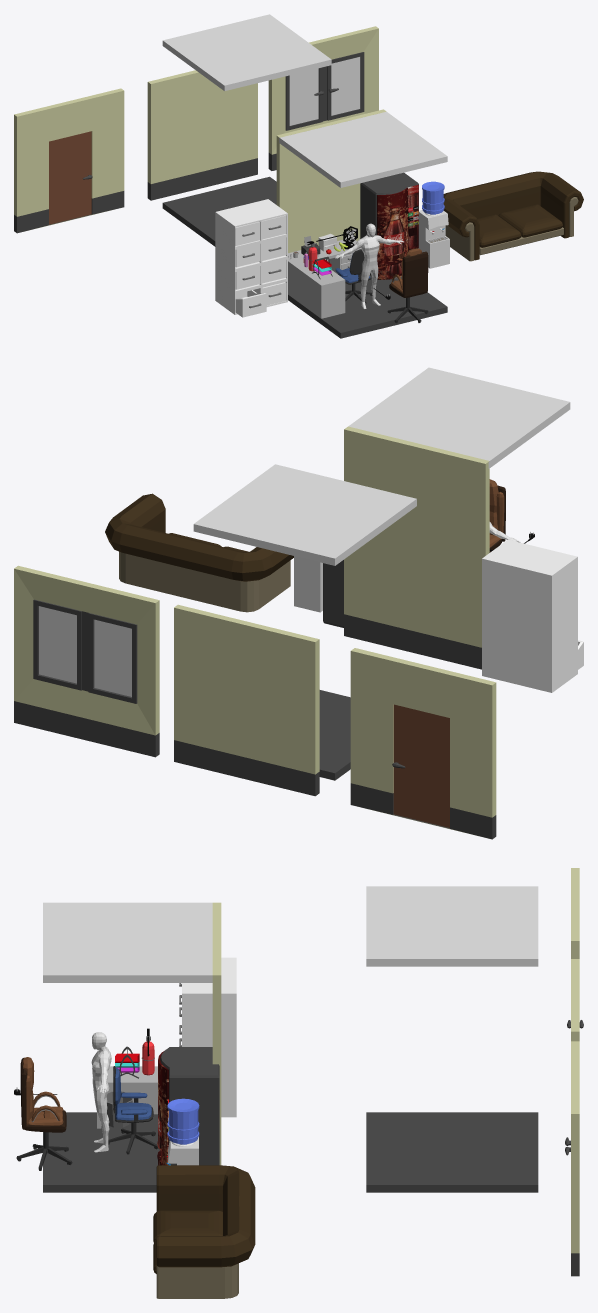
File: iştenthekovulma2.fbx
3 renders of one model, top to bottom at view 1: azimuth 30°, elevation 25°; view 2: azimuth 150°, elevation 25°; view 3: azimuth 270°, elevation 25°, orthographic. The views are drawn at different scales.
Visible parts, largest first — view 1: Wall.001, DoorWall, Vert.002, Cieling.001, Cieling, Wall, Vending Machine, WindowWall, FileCabinet, Floor, Door, Floor.001 (+16 smaller); view 2: Wall, Wall.001, DoorWall, WindowWall, Cieling.001, FileCabinet, Cieling, Vert.002, Door, Glass, WindowCase, Floor.001 (+3 smaller); view 3: Floor.001, Cieling.001, Cieling, Vert.002, Floor, Vending Machine, FileCabinet, Cylinder, WindowWall, Wall, OfficeChair, Plane (+6 smaller).
Part boxes in pixels (x1,y1,x2,y2): Wall.001: (147,70,257,200); DoorWall: (14,88,124,233); Vert.002: (443,171,583,261); Cieling.001: (162,14,331,91); Cieling: (279,111,447,187); Wall: (276,109,386,252); Vending Machine: (360,172,418,279); WindowWall: (268,26,378,170); FileCabinet: (215,199,287,314); Floor: (288,275,447,338); Door: (49,131,91,224); Floor.001: (162,176,276,246); Wall: (344,426,489,669); Wall.001: (174,604,319,796); DoorWall: (350,648,496,839); WindowWall: (14,565,159,757); Cieling.001: (193,464,416,565); FileCabinet: (482,539,577,692); Cieling: (348,367,570,468); Vert.002: (105,493,293,612); Door: (393,704,449,827); Glass: (39,606,131,696); WindowCase: (33,599,137,703); Floor.001: (319,690,350,780); Floor.001: (366,1112,538,1192); Cieling.001: (366,886,538,966); Cieling: (43,902,212,982); Vert.002: (153,1165,255,1298); Floor: (43,1112,159,1192); Vending Machine: (157,1047,219,1165); FileCabinet: (182,957,236,1117); Cylinder: (16,1057,72,1170); WindowWall: (571,1041,579,1276); Wall: (212,902,221,1165); OfficeChair: (108,1066,157,1154); Plane: (91,1032,111,1152).
Bounding box in the file's own units: 1065 × 411 × 902.
70 materials, 2 textured.
